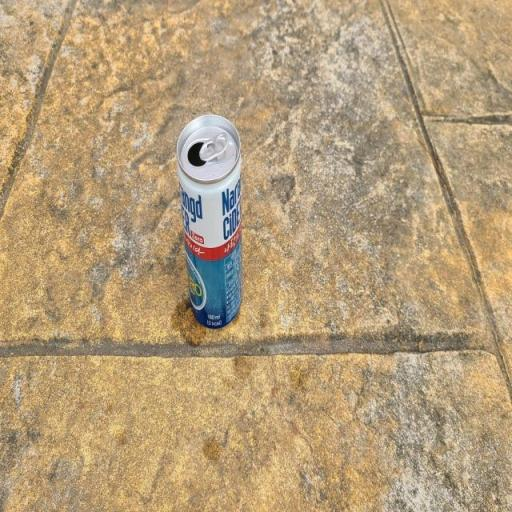metal: (164, 92, 258, 347)
